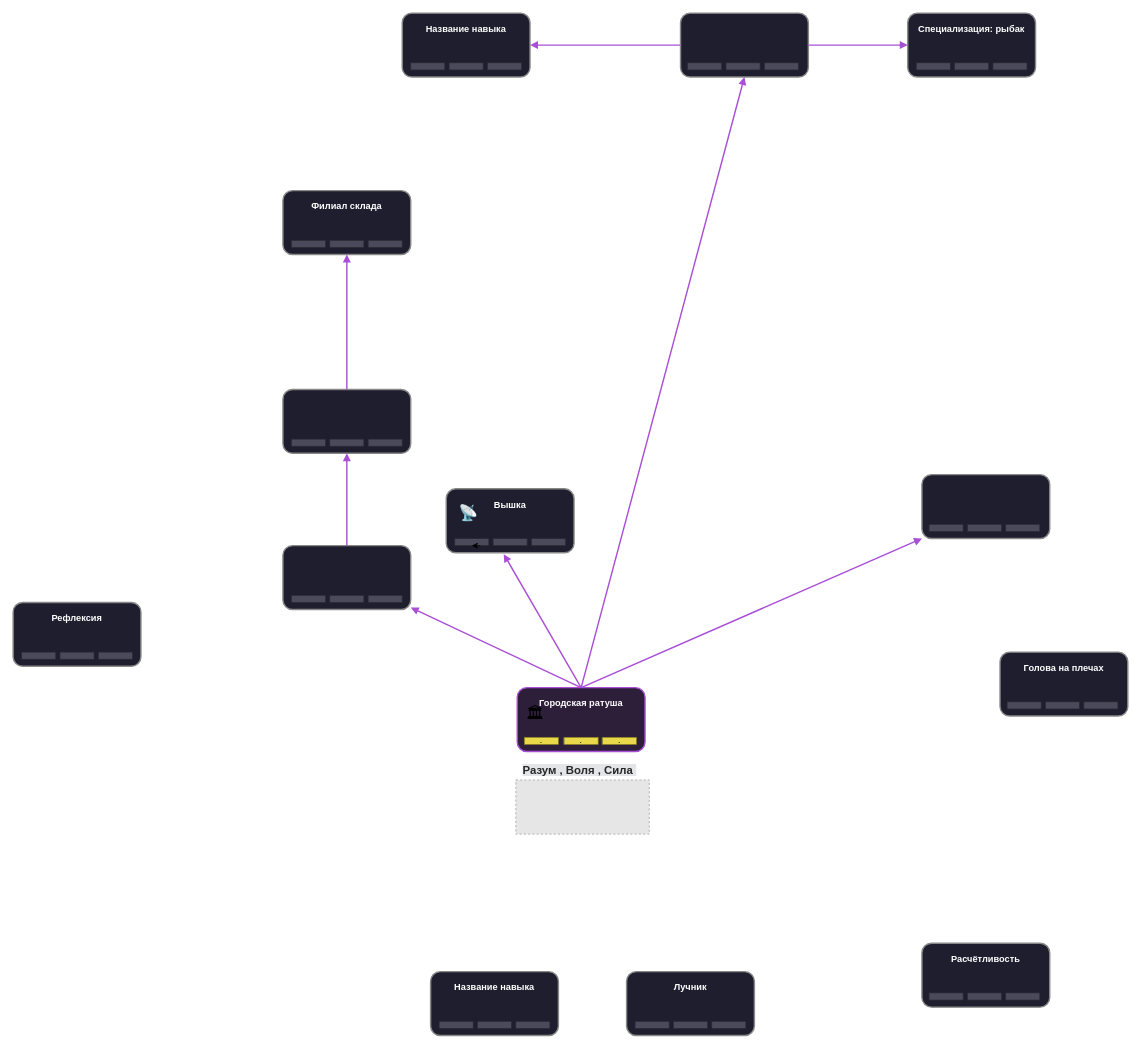
Some shapes in this 1140 by 1048 pixel diagram are drawn without their labels. Grey dashed boxes stand in for pictures. Each missing label, with the centre of its shape:
"Казармы" goes at (x=985, y=506).
"Работяга" goes at (x=744, y=44).
"Рисовое поле" goes at (x=346, y=577).
"Склад" goes at (x=346, y=421).
